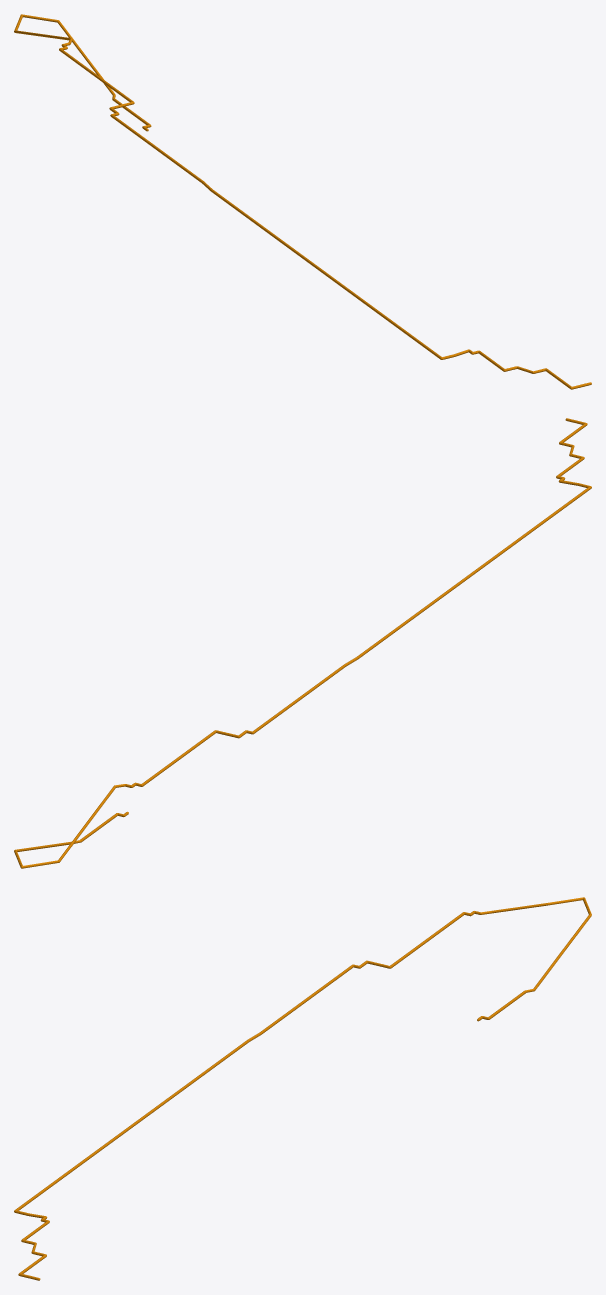
The picture shows the model from 3 angles, top to bottom: view 1: azimuth 30°, elevation 25°; view 2: azimuth 150°, elevation 25°; view 3: azimuth 330°, elevation 25°; orthographic projection.
Bounding box in the file's own units: 749 × 520 × 7598.
